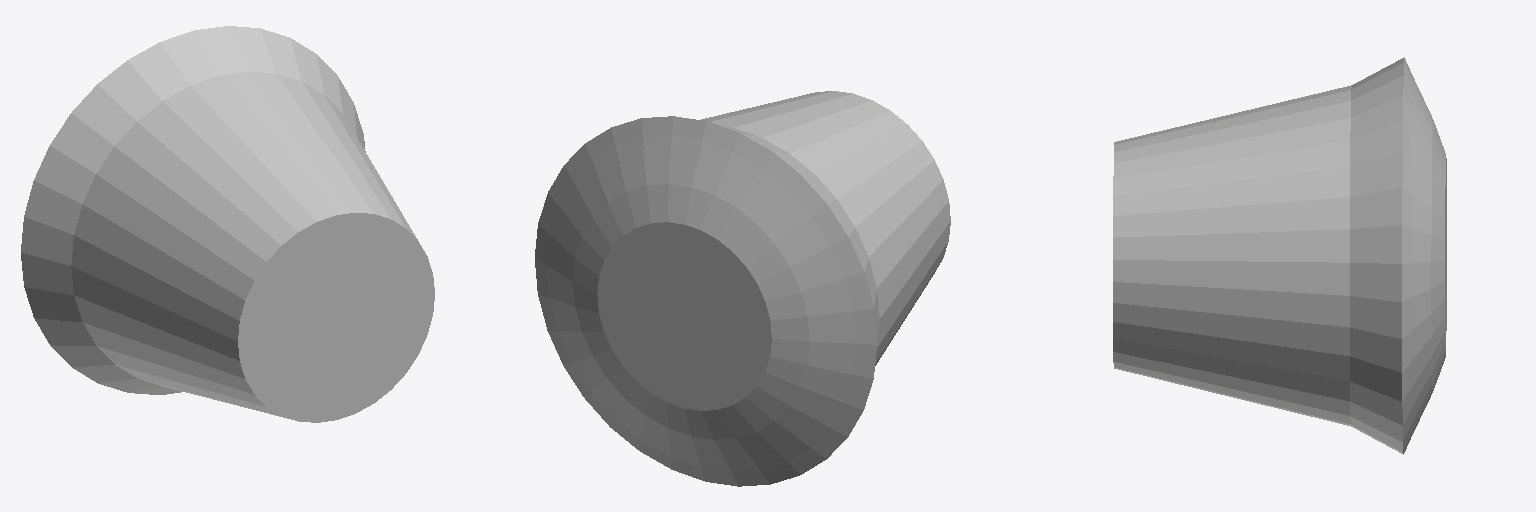
File: light3.obj
3 views of the same model, side by side, from view 1: azimuth 30°, elevation 25°; view 2: azimuth 150°, elevation 25°; view 3: azimuth 270°, elevation 25° (orthographic).
Visible parts, largest first — view 1: Cylinder.001_Cylinder.003; view 2: Cylinder.001_Cylinder.003; view 3: Cylinder.001_Cylinder.003.
Boxes of the visible parts, x1=… form: Cylinder.001_Cylinder.003: x1=21, y1=26, x2=434, y2=422; Cylinder.001_Cylinder.003: x1=535, y1=91, x2=950, y2=486; Cylinder.001_Cylinder.003: x1=1113, y1=57, x2=1446, y2=454.
Bounding box in the file's own units: 3.18 × 3.18 × 2.67.